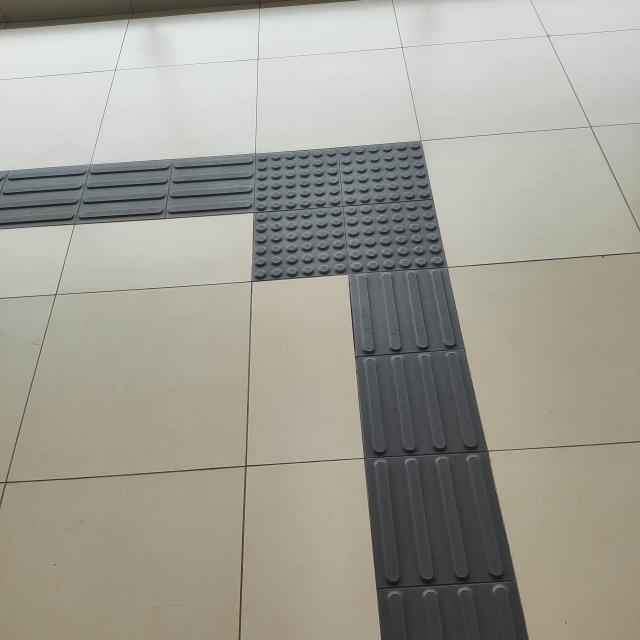kiri: (103, 104, 496, 352)
